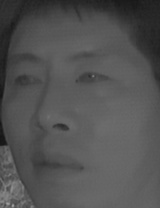eye: (75, 67, 110, 89), (11, 70, 43, 89)
mouth: (25, 143, 84, 182)
